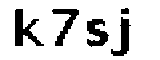7: (50, 7, 80, 48)
j: (109, 6, 138, 60)
k: (12, 6, 45, 50)
s: (83, 19, 110, 48)
